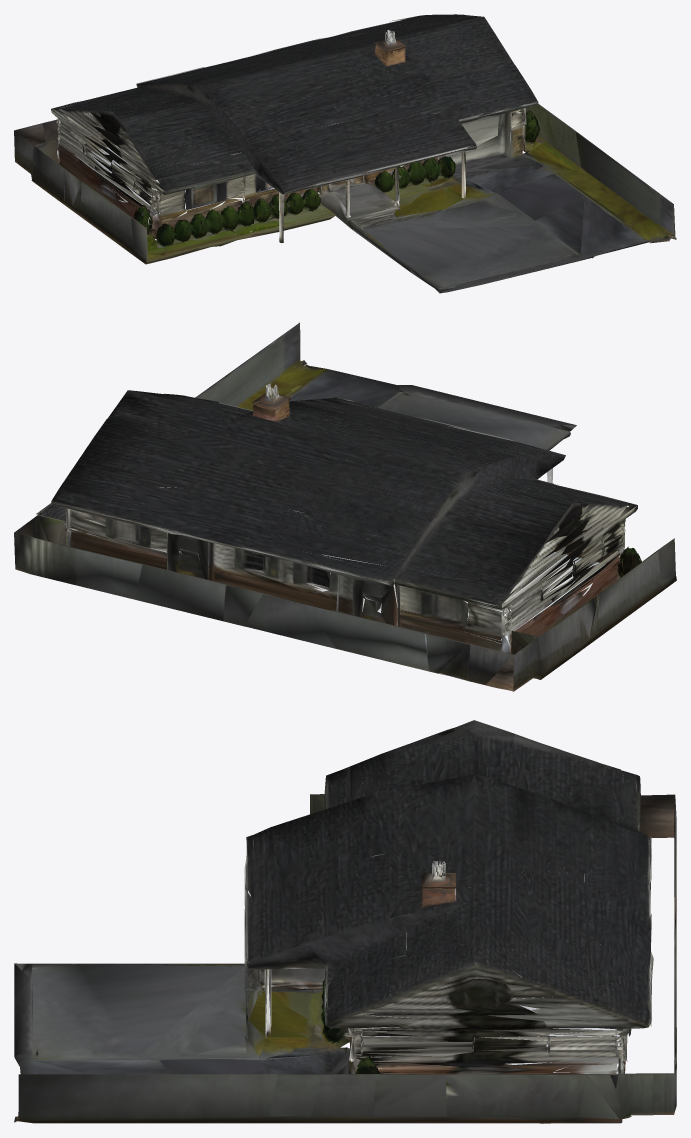
The model's file is World4f4d74ae4f.glb.
The picture shows the model from 3 angles, top to bottom: view 1: azimuth 30°, elevation 25°; view 2: azimuth 150°, elevation 25°; view 3: azimuth 270°, elevation 25°; orthographic projection. The views are drawn at different scales.
Visible parts, largest first — view 1: mesh_node; view 2: mesh_node; view 3: mesh_node.
Part boxes in pixels (x1,y1,x2,y2): mesh_node: [14, 14, 676, 293]; mesh_node: [14, 322, 676, 691]; mesh_node: [14, 720, 676, 1123].
Bounding box in the file's own units: 7.01 × 2.03 × 6.95.
1 material, 1 textured.
